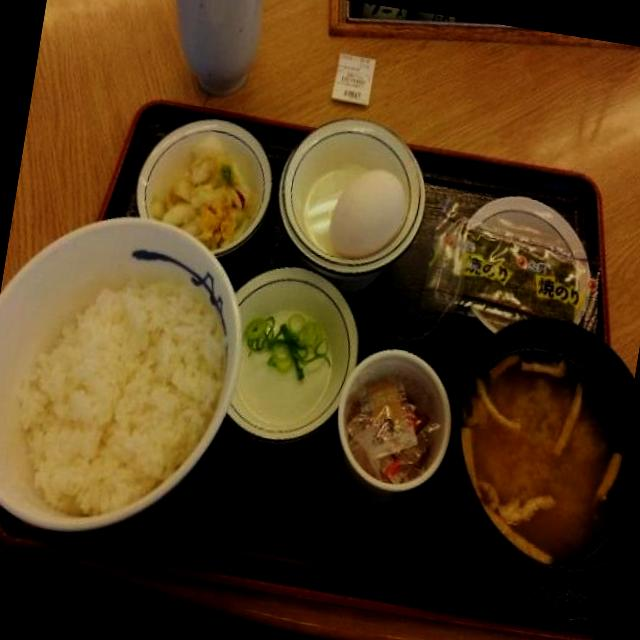Rice: (12, 235, 235, 512)
